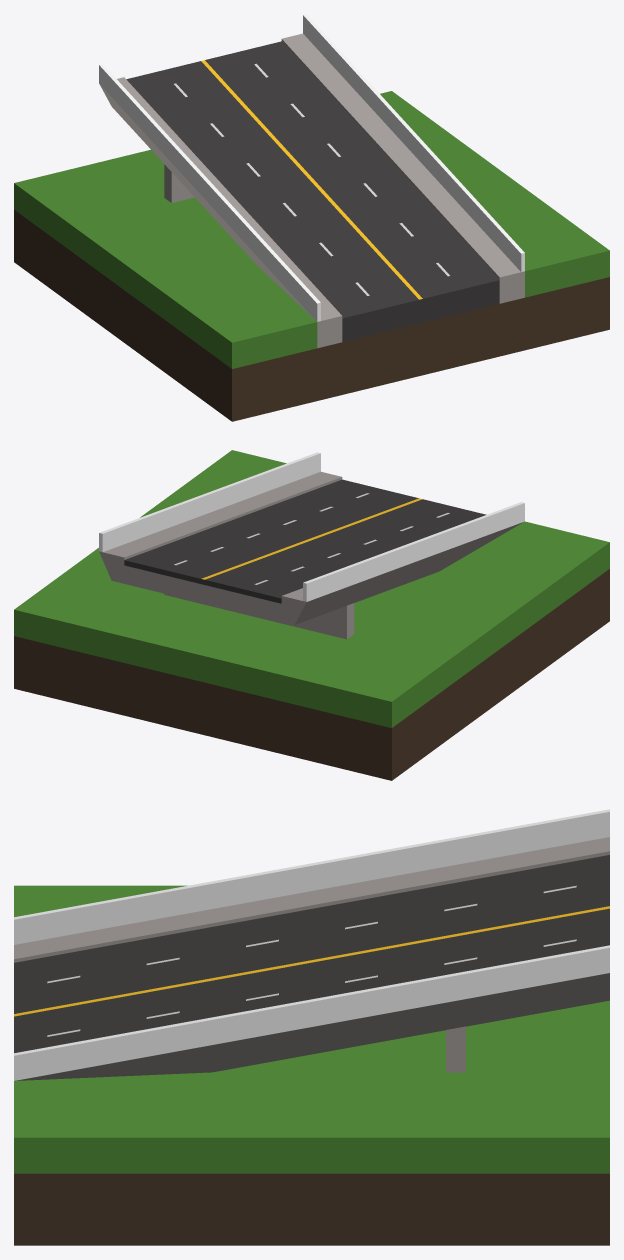
The model's file is tiles-tile-bridge-mainroad-hill.glb.
The picture shows the model from 3 angles, top to bottom: view 1: azimuth 30°, elevation 25°; view 2: azimuth 150°, elevation 25°; view 3: azimuth 270°, elevation 25°; orthographic projection. The views are drawn at different scales.
Parts seen in each view (by area): view 1: tile-bridge-mainroad-hill; view 2: tile-bridge-mainroad-hill; view 3: tile-bridge-mainroad-hill.
Part boxes in pixels (box(x1,y1,x2,y2)): tile-bridge-mainroad-hill: box(14, 14, 609, 421); tile-bridge-mainroad-hill: box(14, 450, 609, 780); tile-bridge-mainroad-hill: box(14, 809, 609, 1245).
Bounding box in the file's own units: 30 × 13.4 × 30.
